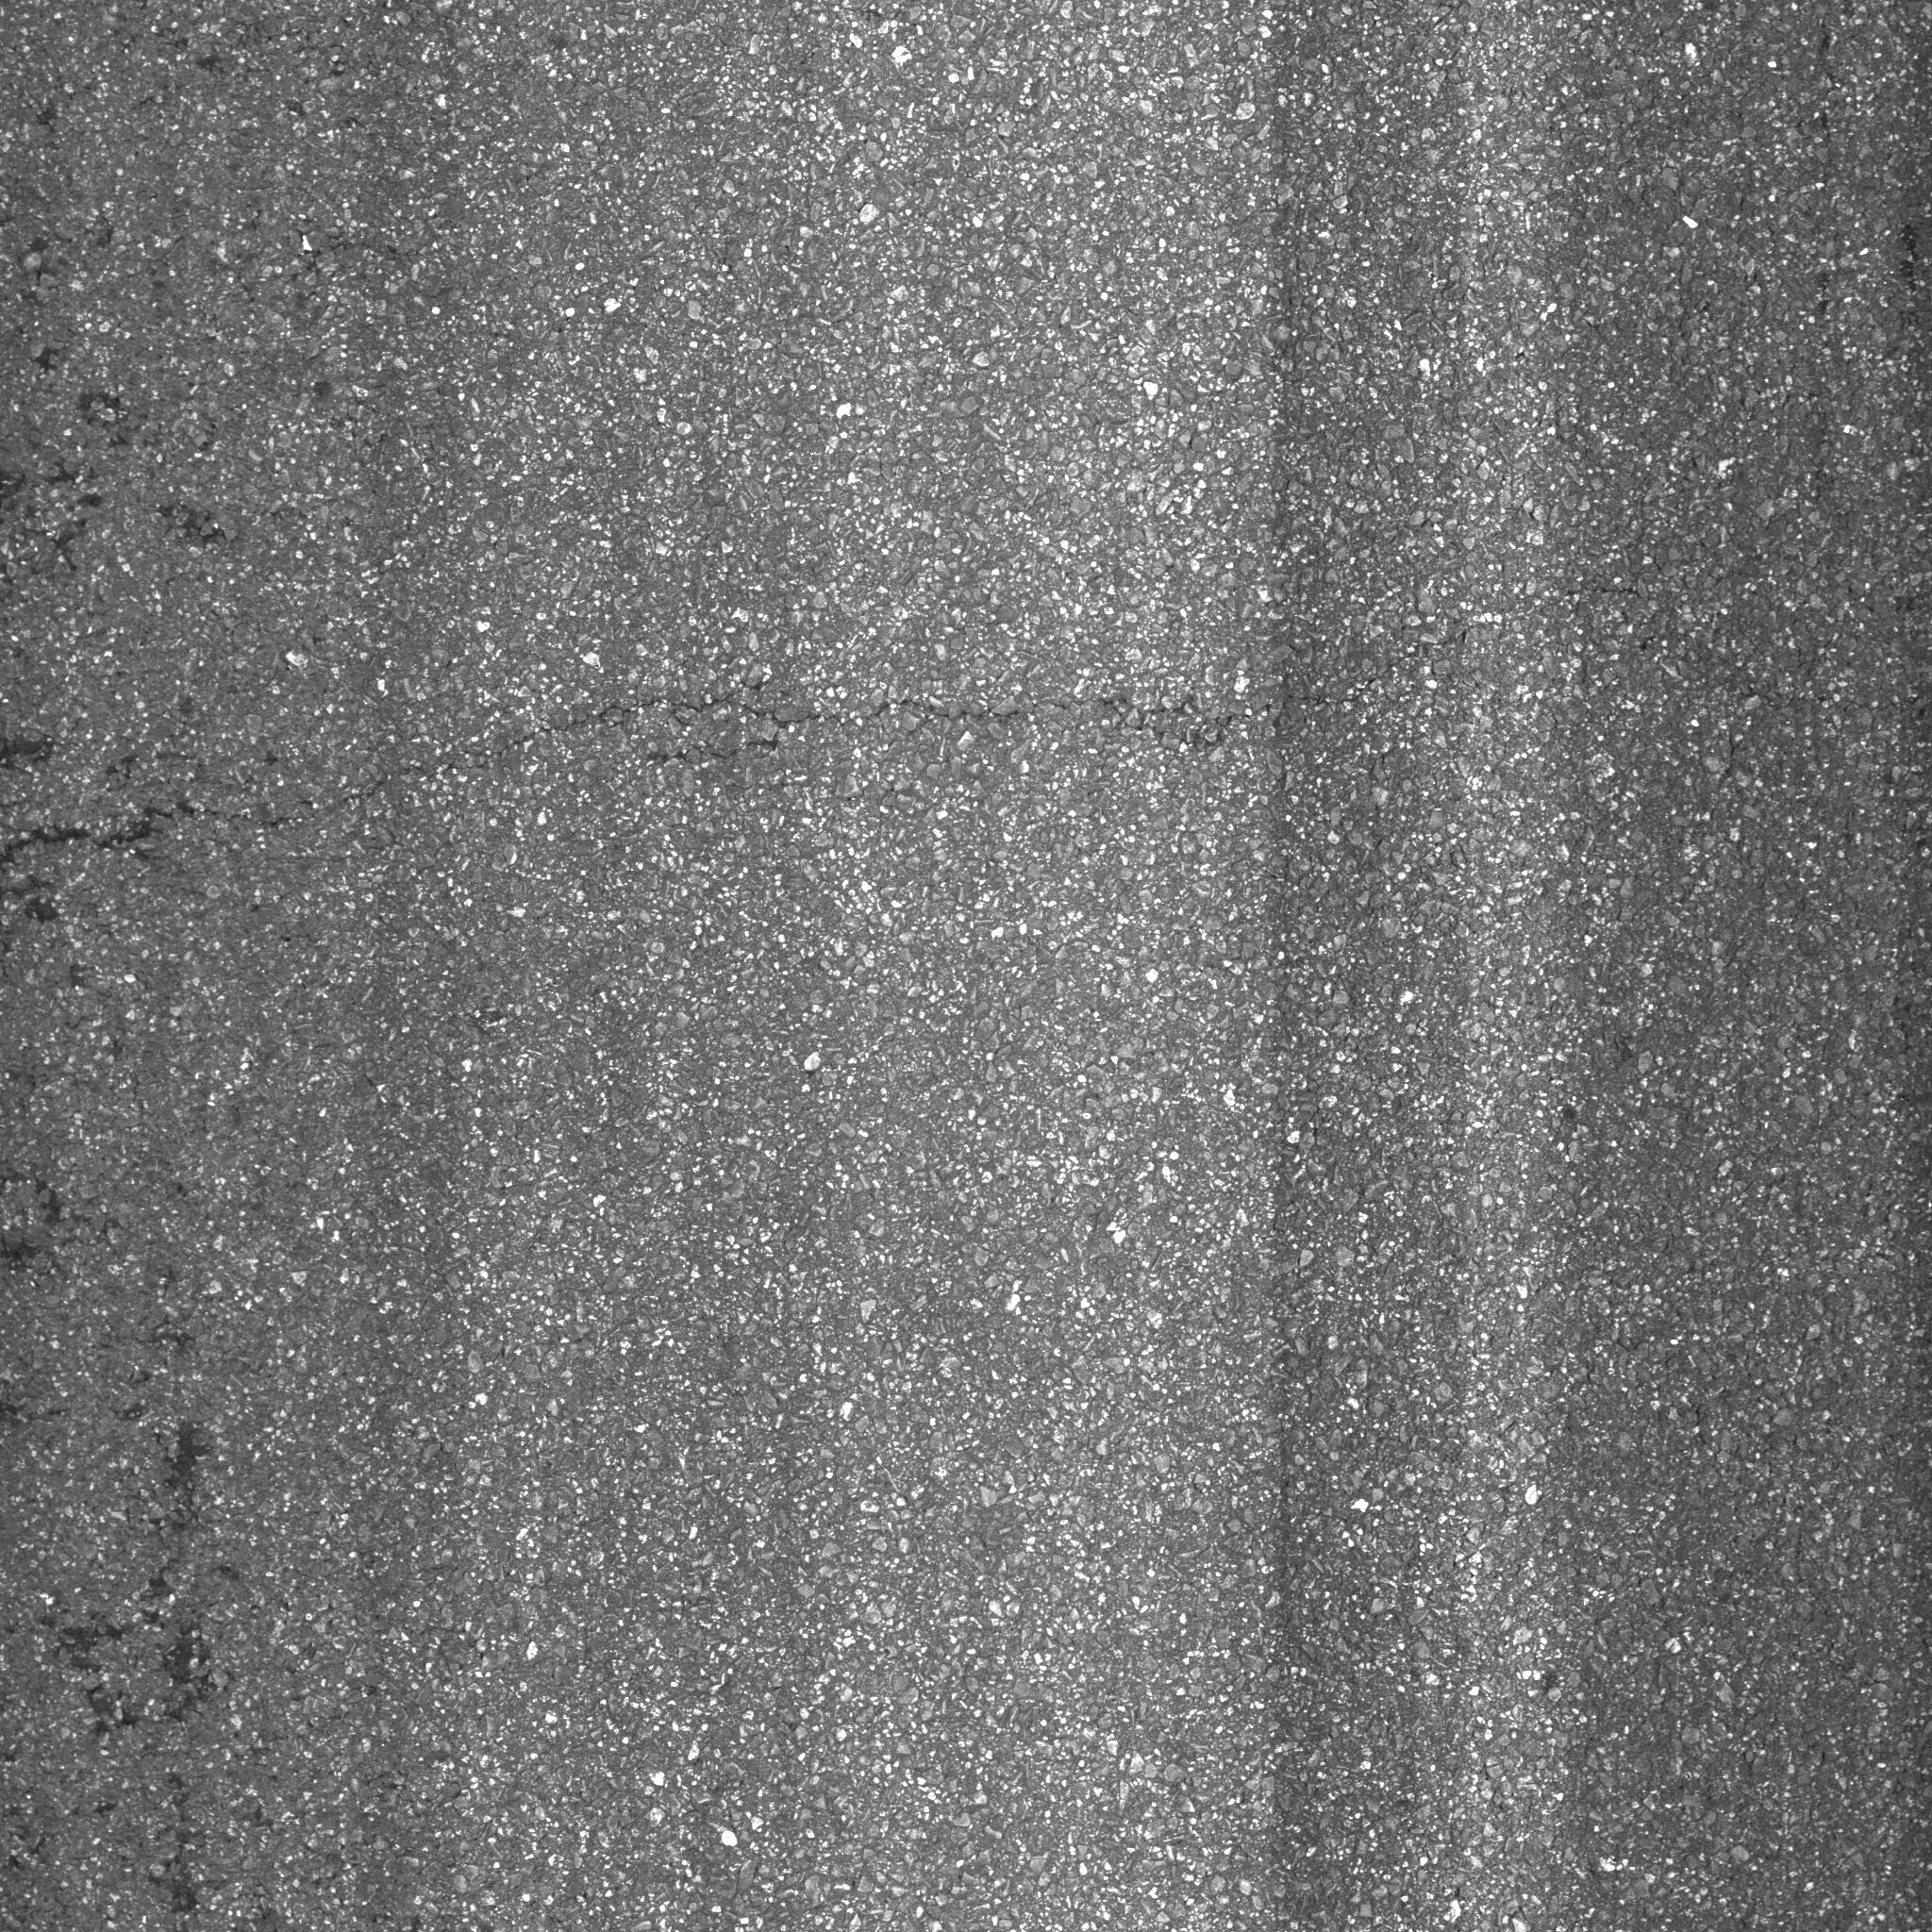transeverse: (23, 676, 1373, 906)
